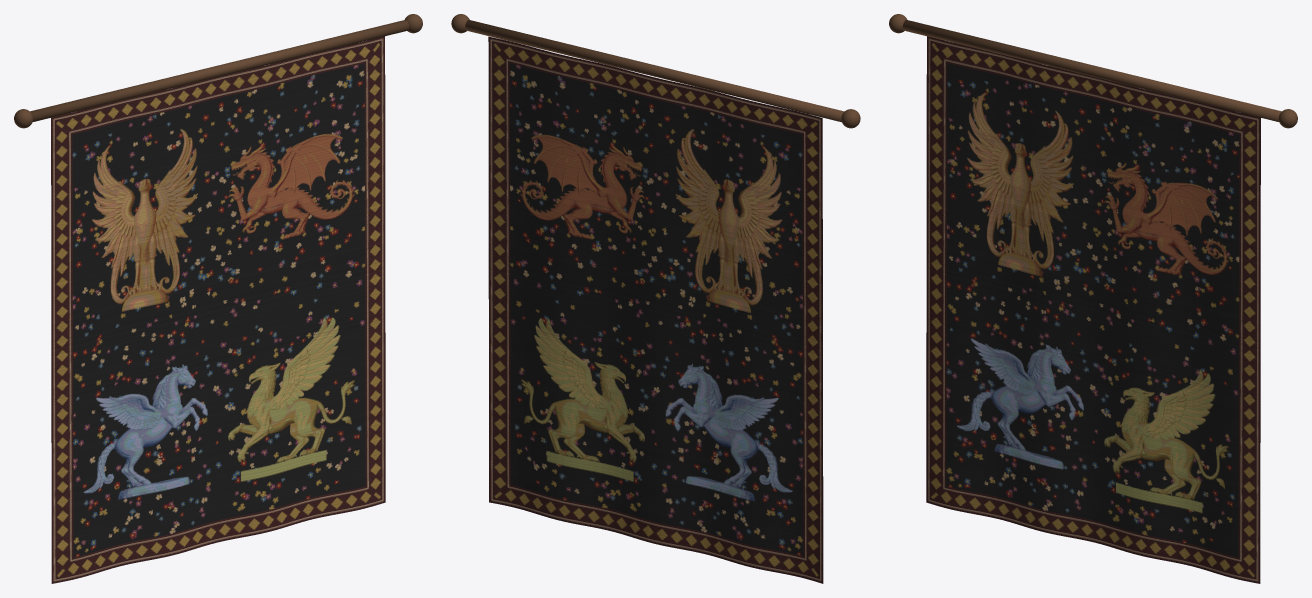
The model's file is tapestry.glb.
The picture shows the model from 3 angles, left to right: view 1: azimuth 30°, elevation 25°; view 2: azimuth 150°, elevation 25°; view 3: azimuth 330°, elevation 25°; orthographic projection.
Visible parts, largest first — view 1: tapestry, Cylinder; view 2: tapestry, Cylinder; view 3: tapestry, Cylinder.
Boxes of the visible parts, bbox=[...] form: tapestry: bbox=[51, 36, 385, 583]; Cylinder: bbox=[30, 20, 409, 121]; tapestry: bbox=[488, 36, 823, 583]; Cylinder: bbox=[465, 20, 844, 122]; tapestry: bbox=[926, 36, 1260, 583]; Cylinder: bbox=[902, 20, 1281, 121].
Size of the model in its own units: 2.92 by 3.3 by 0.12.
Materials: 2 (1 with a texture image).
